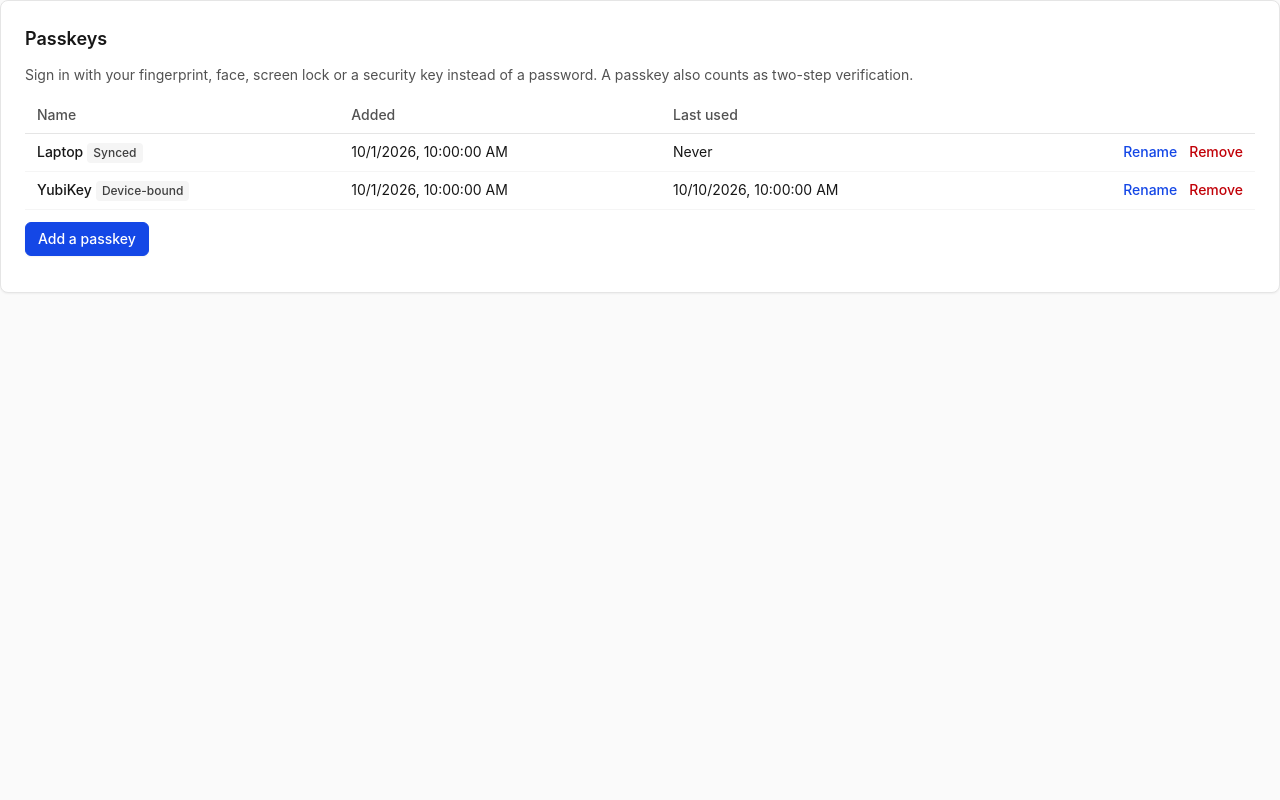
Test case: PasskeysSection › explains the passkey cap at the re-auth step
Click the button "Add a passkey": (87, 239) [25,222,149,256]
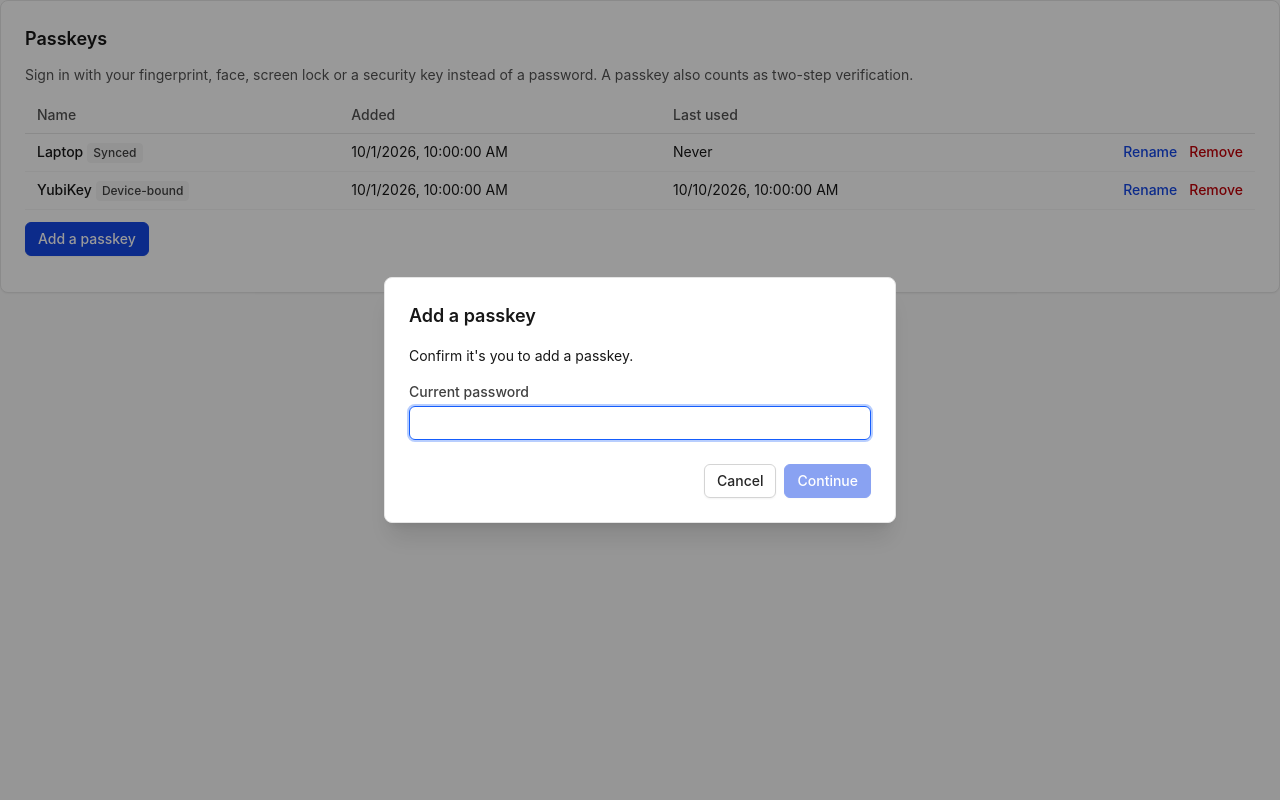
In the password field labelled "Current password": (640, 423) [409,406,871,440], type "pw"
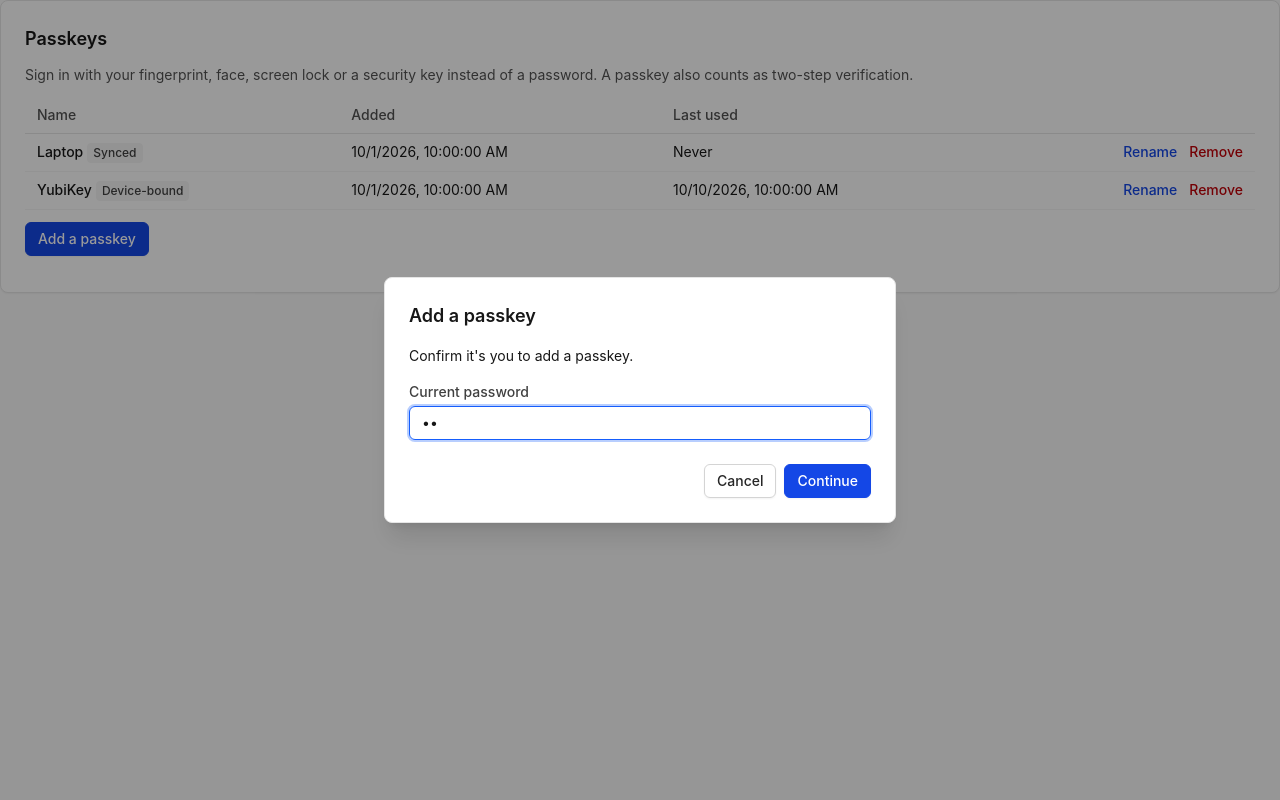
Submit the form with id "reauth-prompt", box [409,346,871,440]
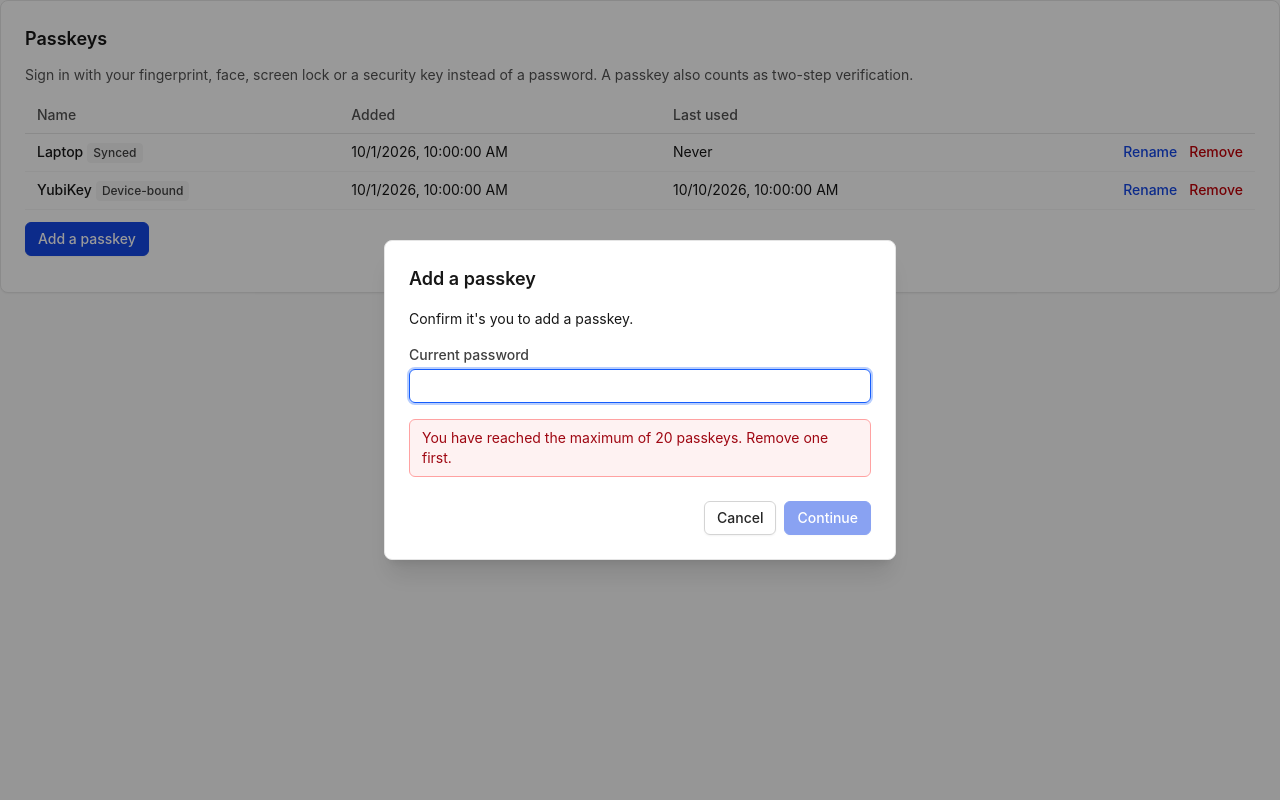
Now the text "You have reached the maximum of 20 passkeys." is shown, box [422,429,828,466]
